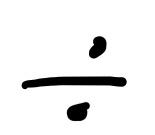div: (22, 36, 127, 121)
